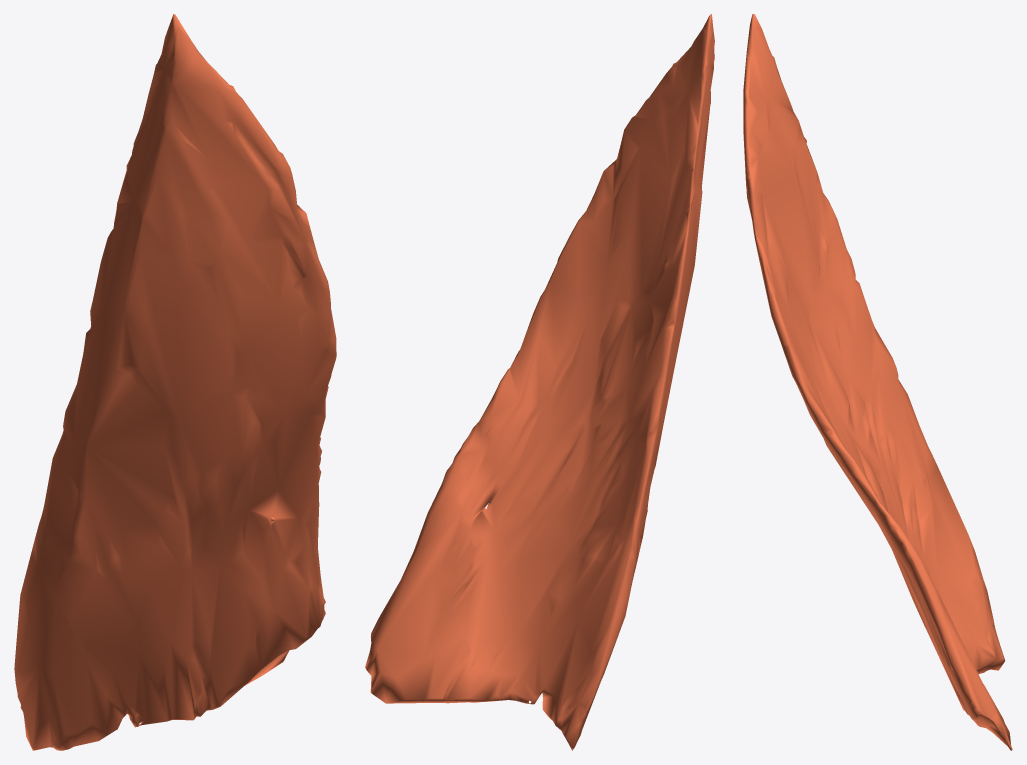
The model's file is Pyramidalis_left.glb.
3 renders of one model, left to right at view 1: azimuth 30°, elevation 25°; view 2: azimuth 150°, elevation 25°; view 3: azimuth 270°, elevation 25°, orthographic. The views are drawn at different scales.
Parts seen in each view (by area): view 1: Pyramidalis_muscle.l_Generated_Mesh_From_X3D.260; view 2: Pyramidalis_muscle.l_Generated_Mesh_From_X3D.260; view 3: Pyramidalis_muscle.l_Generated_Mesh_From_X3D.260.
Boxes of the visible parts, left/top/right/bottom form: Pyramidalis_muscle.l_Generated_Mesh_From_X3D.260: left=14, top=14, right=336, bottom=750; Pyramidalis_muscle.l_Generated_Mesh_From_X3D.260: left=365, top=14, right=714, bottom=750; Pyramidalis_muscle.l_Generated_Mesh_From_X3D.260: left=743, top=14, right=1012, bottom=750.
Size of the model in its own units: 0.0279 by 0.0716 by 0.0269.
